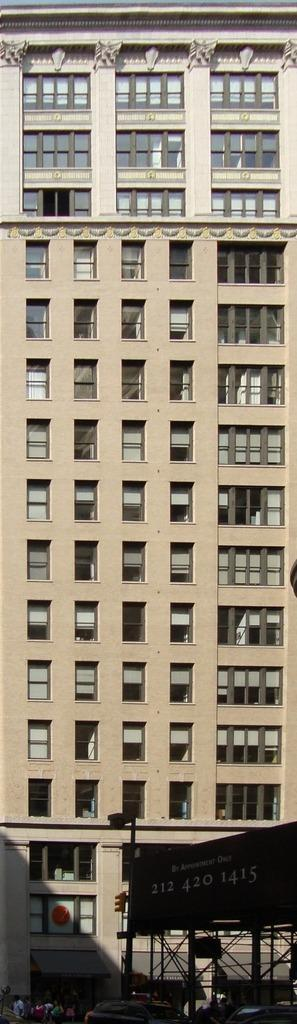window: (217, 242, 286, 286), (30, 842, 98, 884), (214, 724, 282, 765), (30, 896, 98, 937), (218, 305, 285, 346), (218, 366, 285, 407), (219, 427, 286, 468), (218, 487, 285, 528), (218, 546, 285, 587), (218, 607, 285, 648), (217, 667, 284, 708), (216, 785, 283, 826), (23, 73, 92, 110), (116, 73, 185, 110), (117, 131, 186, 168), (22, 132, 91, 169), (211, 74, 280, 110), (211, 133, 279, 169), (23, 189, 92, 217), (117, 189, 186, 217), (212, 190, 281, 218), (27, 240, 50, 280), (123, 300, 146, 340), (123, 422, 146, 462), (76, 421, 99, 461), (28, 420, 51, 460), (27, 480, 50, 520), (170, 484, 193, 524), (171, 543, 194, 583), (75, 542, 98, 582), (28, 541, 51, 581), (29, 602, 52, 642), (124, 604, 147, 644), (172, 603, 195, 643), (75, 662, 98, 702), (169, 723, 192, 763), (171, 782, 194, 822), (77, 781, 100, 821), (29, 780, 52, 820), (75, 241, 98, 280), (122, 242, 145, 281), (171, 242, 194, 281), (28, 300, 51, 339), (75, 300, 98, 339), (171, 301, 194, 340), (28, 360, 51, 399), (75, 361, 98, 400), (123, 360, 146, 399), (171, 361, 194, 400), (171, 422, 194, 461), (76, 483, 99, 522), (124, 483, 147, 522), (123, 543, 146, 582), (76, 603, 99, 642), (171, 664, 194, 703), (124, 664, 147, 703), (29, 662, 52, 701), (29, 721, 52, 760), (76, 722, 99, 761), (123, 723, 146, 762), (123, 782, 146, 821)
